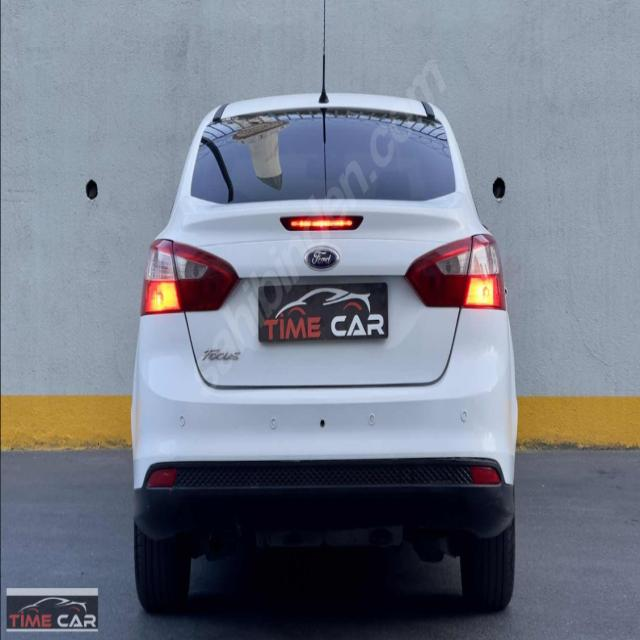ford: (304, 242, 342, 276)
